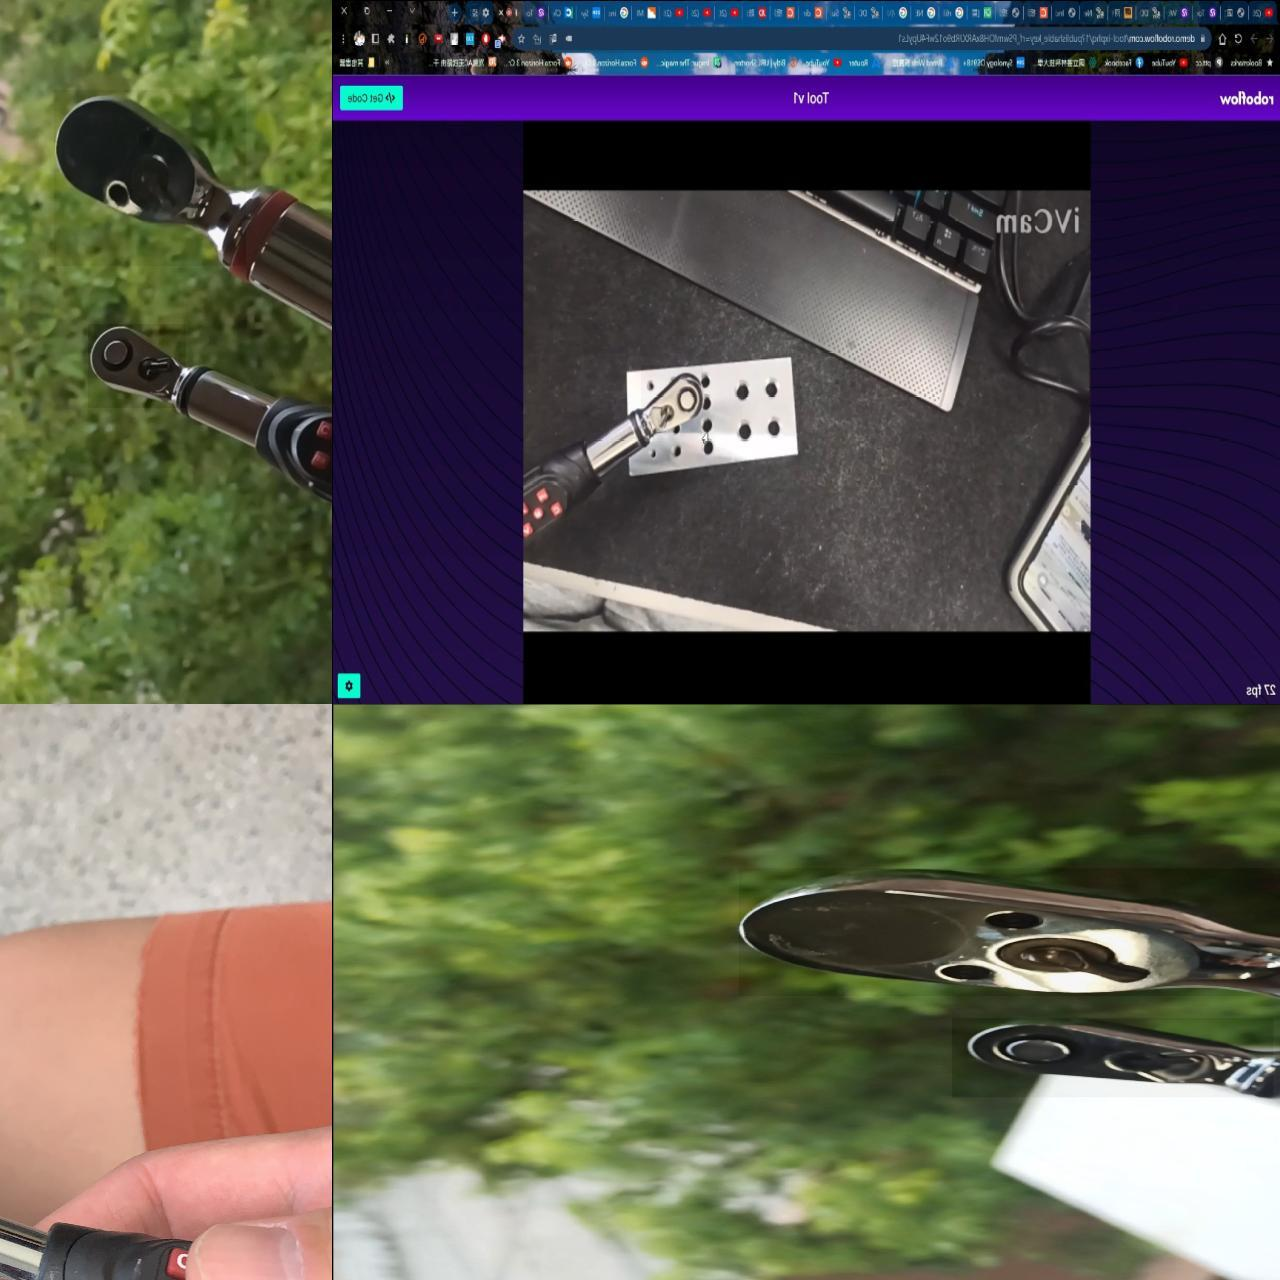Tool: (737, 867, 1280, 995), (53, 89, 245, 265), (951, 1017, 1273, 1096), (87, 324, 185, 407), (640, 365, 702, 433)
